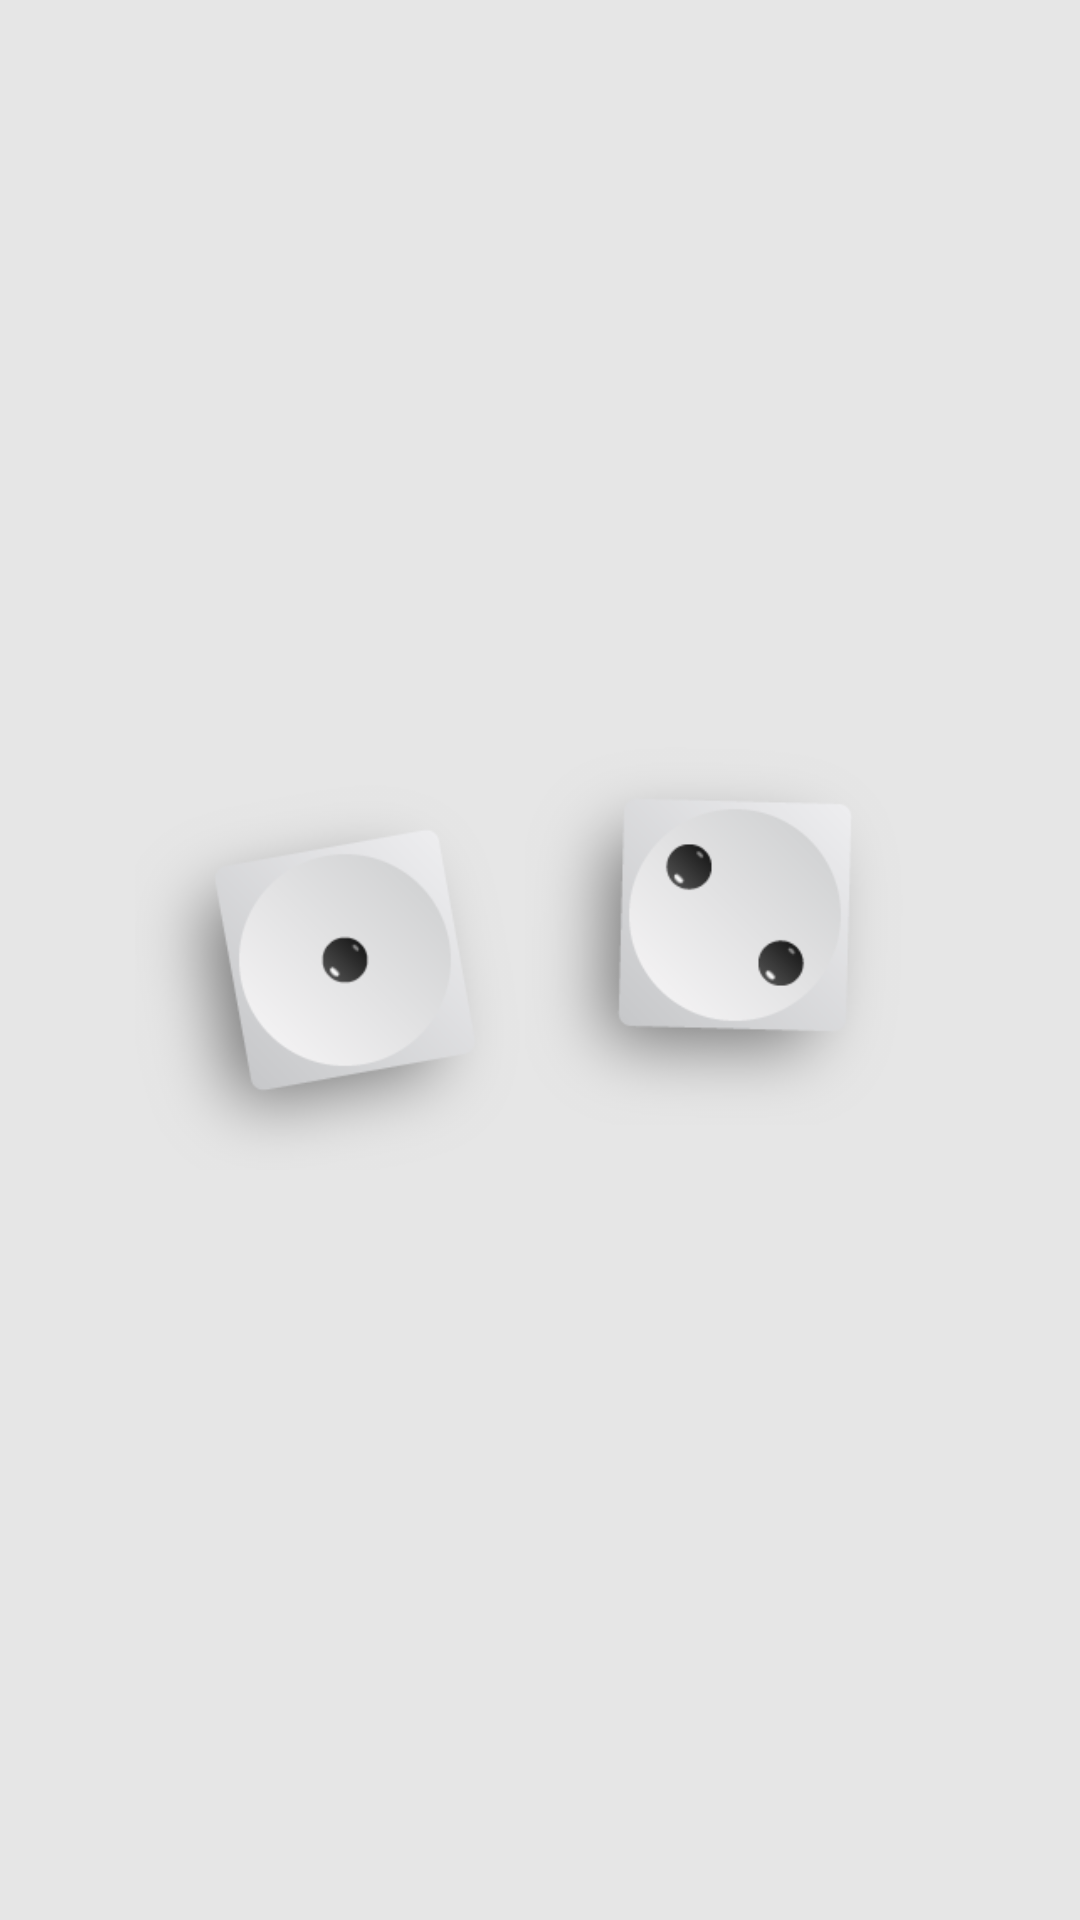

Icons on this 1080×1920 Android screen, each with the point to tap as (x=x, y=y):
dice: (x=702, y=946), (x=316, y=1002)
